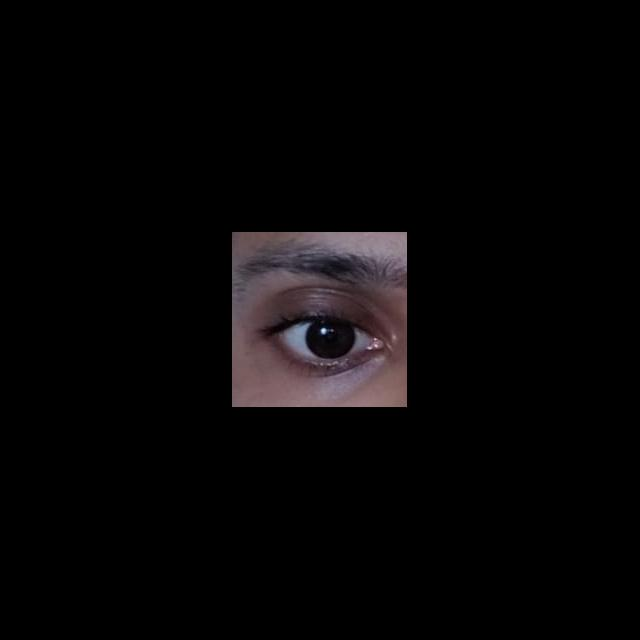eye: (277, 320, 375, 361)
iris: (308, 322, 357, 359)
